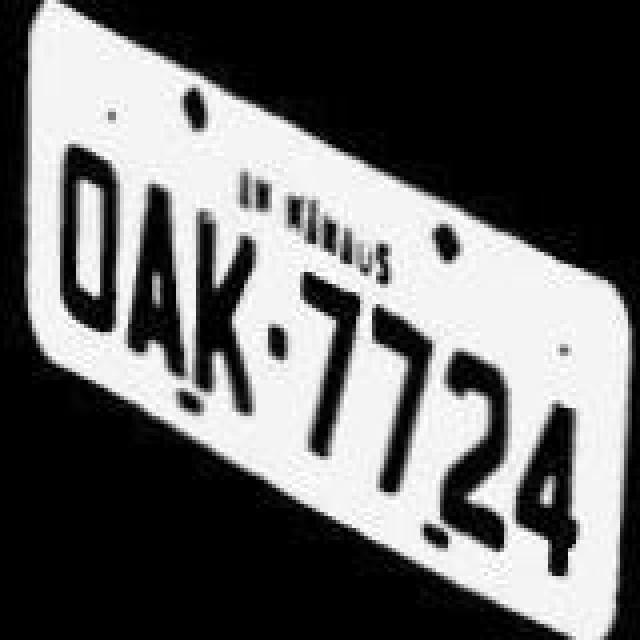2: (434, 326, 518, 558)
4: (510, 372, 594, 588)
7: (290, 266, 374, 470), (360, 296, 436, 508)
A: (120, 174, 192, 382)
K: (186, 202, 262, 426)
O: (48, 132, 128, 340)
